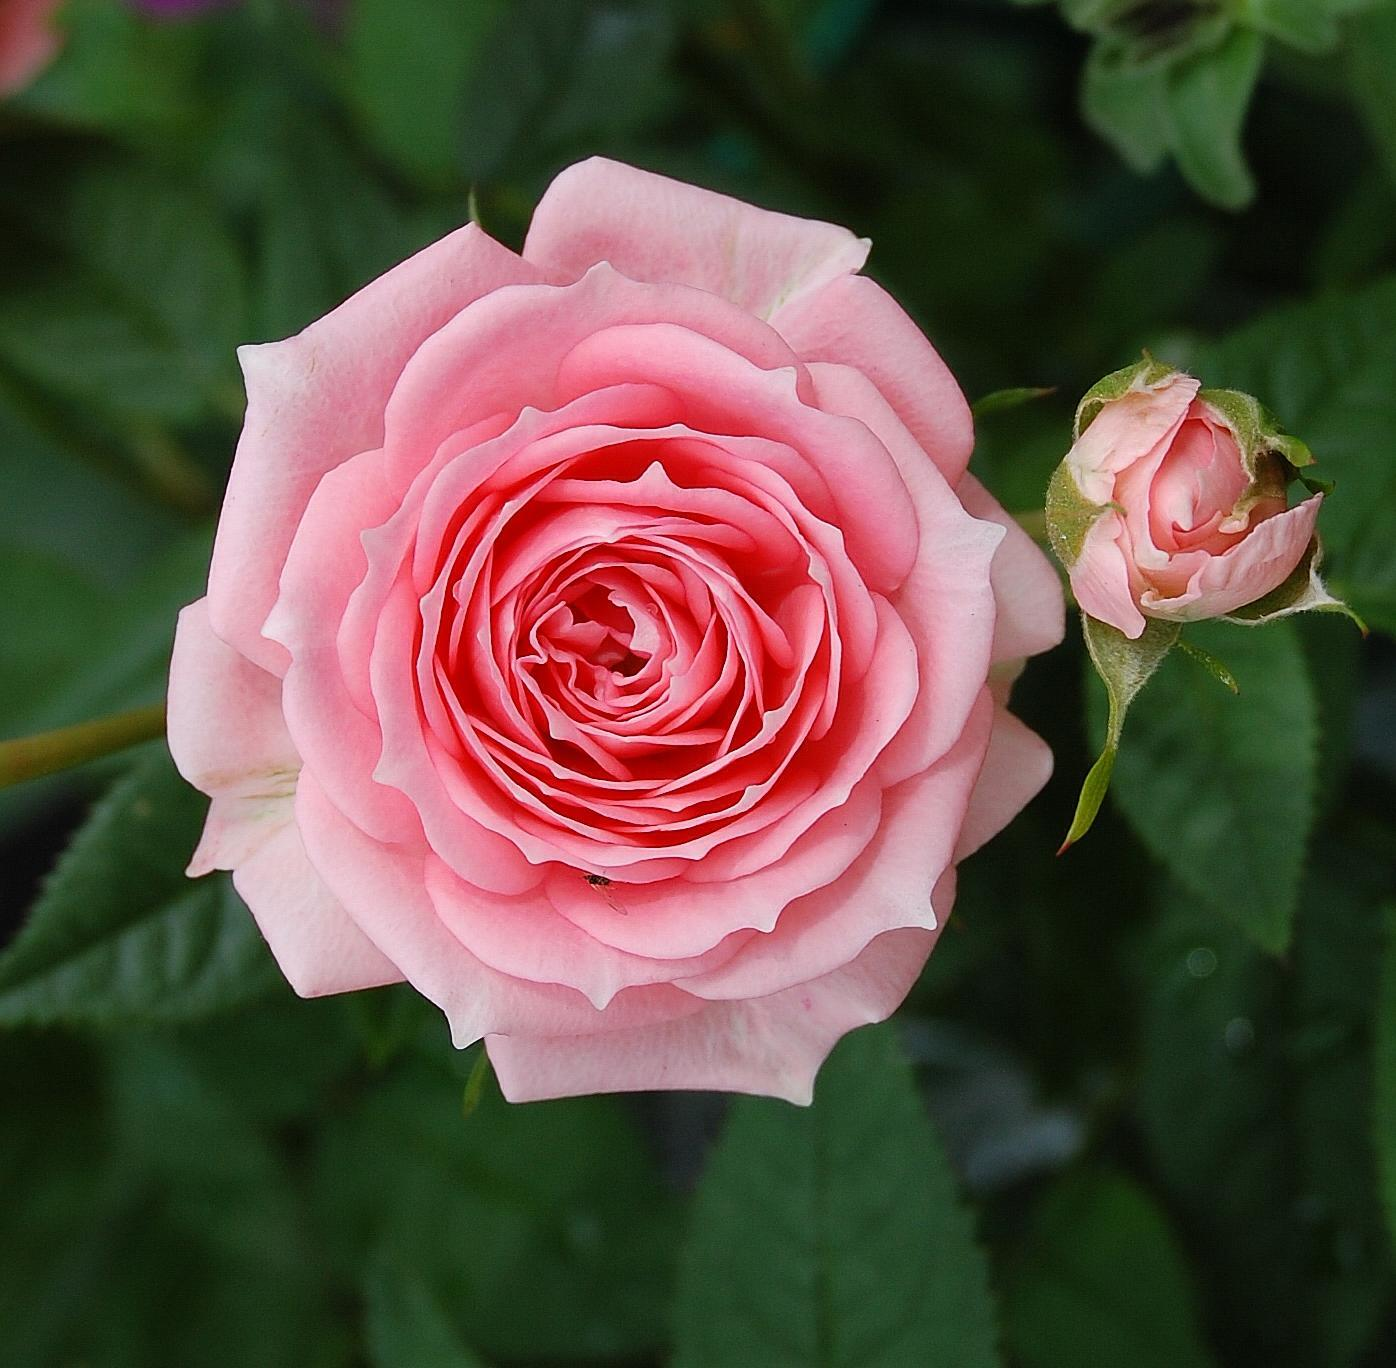rose: (163, 162, 1071, 1099)
